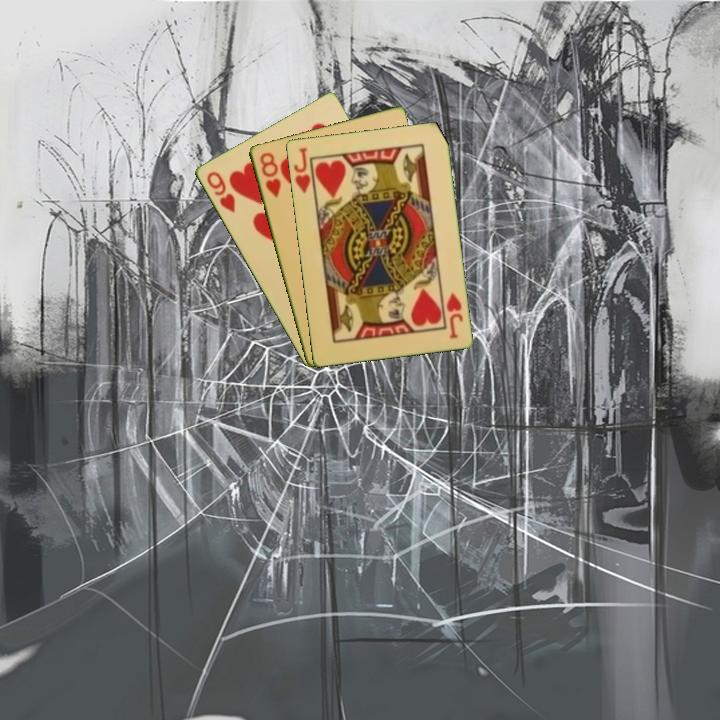8h: (256, 149, 283, 200)
9h: (203, 168, 238, 216)
Jh: (442, 289, 465, 341), (290, 144, 313, 195)
